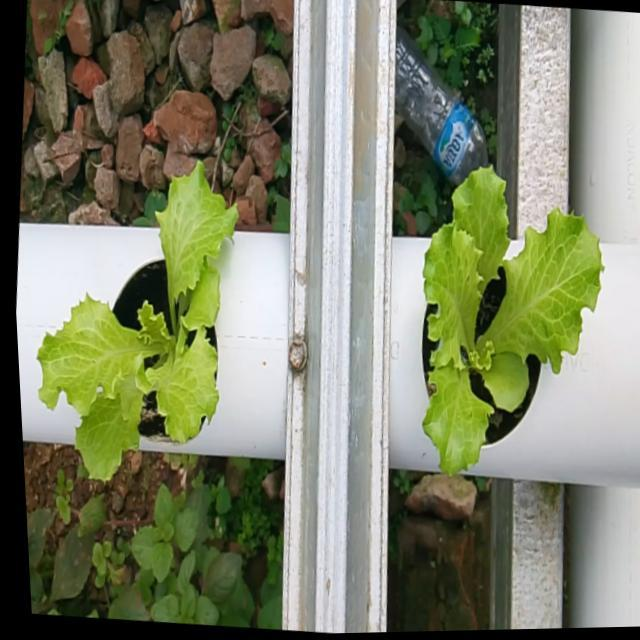Baby: (33, 165, 236, 486), (419, 170, 602, 482)
